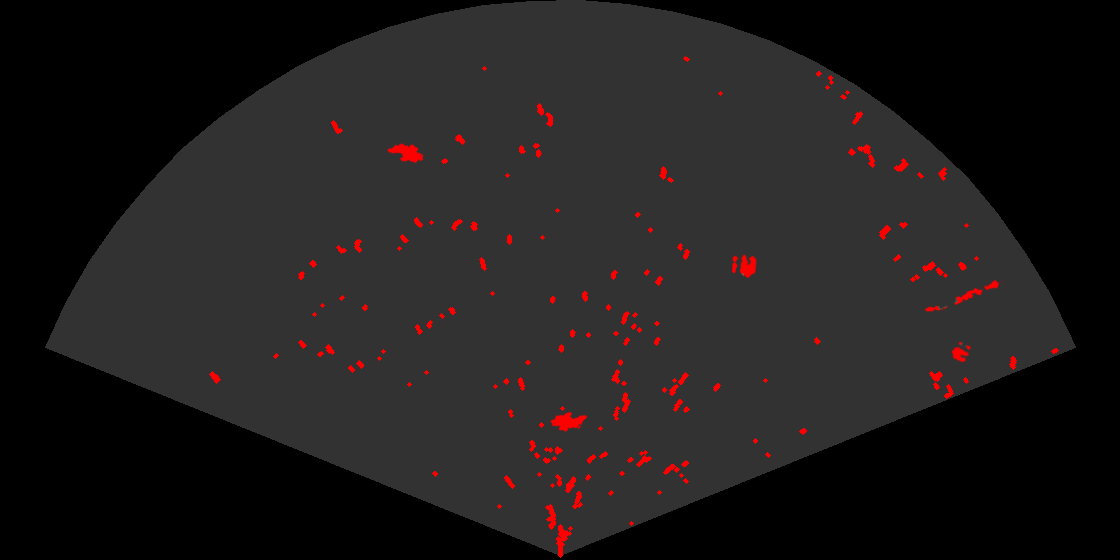AUV: (549, 410, 589, 433), (385, 142, 425, 165)
ball: (730, 253, 758, 279), (950, 340, 973, 364)
chain: (923, 278, 1005, 313)
